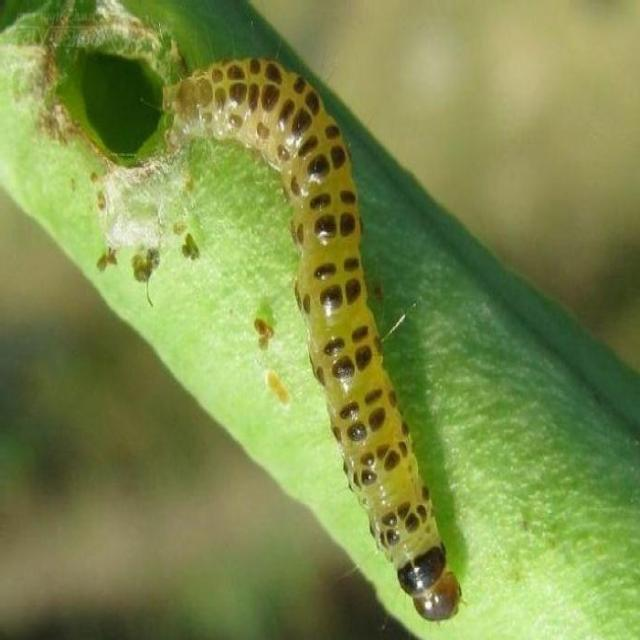peach borer: (159, 59, 467, 629)
